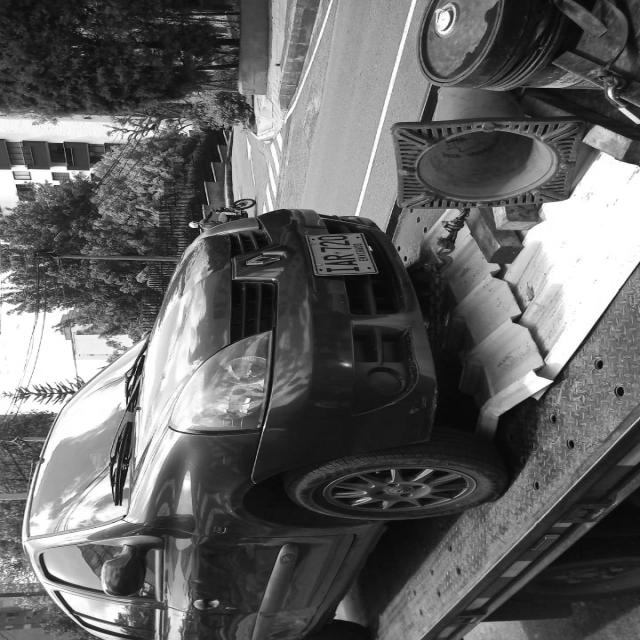plate: (298, 231, 385, 278)
